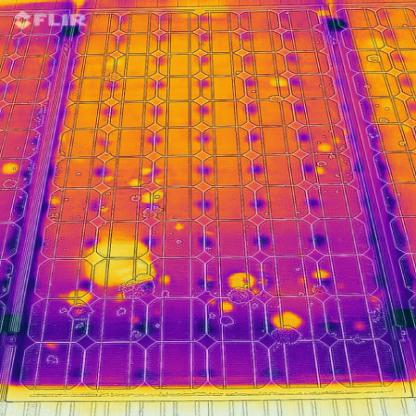Defects: (95, 241, 151, 283), (275, 310, 304, 334)
